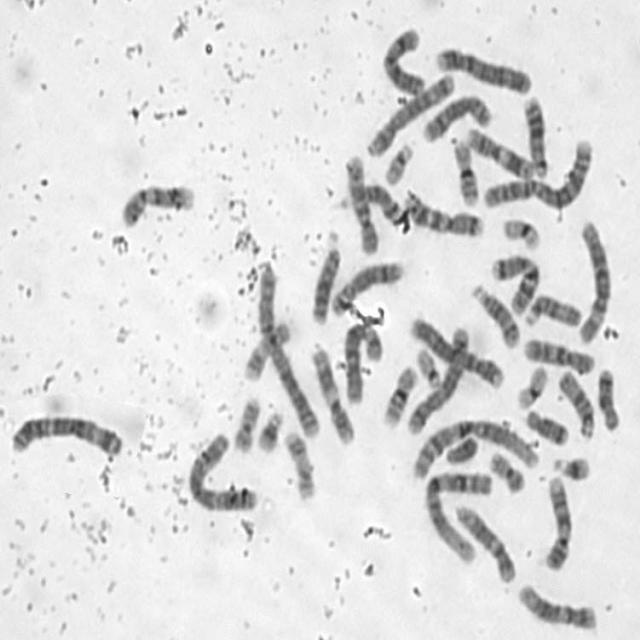A1: (412, 416, 536, 482), (424, 468, 496, 564)
A2: (256, 266, 320, 442), (469, 134, 597, 212)
A3: (188, 429, 258, 518), (7, 413, 124, 464)
B4: (412, 316, 500, 392), (429, 45, 537, 98)
B5: (364, 74, 466, 160), (408, 325, 470, 440)
C10: (343, 156, 381, 258), (520, 335, 596, 380)
C11: (306, 344, 357, 449), (462, 124, 545, 185)
C12: (454, 498, 518, 586), (514, 581, 599, 633)
C6: (573, 220, 609, 344), (342, 320, 384, 410)
C7: (402, 190, 482, 238), (490, 247, 541, 320)
C8: (330, 259, 406, 321), (416, 96, 492, 147)
C9: (116, 180, 194, 228), (538, 469, 572, 575)
D13: (309, 229, 342, 325), (522, 95, 548, 178)
D14: (471, 284, 522, 348), (338, 182, 400, 225)
D15: (554, 369, 595, 442), (520, 292, 584, 331)
E16: (381, 366, 418, 428), (449, 136, 480, 209)
E17: (240, 317, 293, 383), (280, 424, 317, 503)
E18: (521, 407, 572, 447), (593, 364, 621, 435)
F19: (512, 364, 550, 412), (498, 215, 540, 252)
F20: (230, 395, 263, 455), (486, 448, 526, 495)
G21: (254, 406, 283, 456), (551, 452, 593, 484)
G22: (383, 142, 413, 188), (415, 346, 445, 390)
X: (381, 25, 429, 98)
Y: (443, 434, 477, 466)
